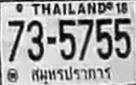3: (26, 19, 43, 60)
5: (95, 18, 112, 59), (58, 19, 75, 59), (114, 17, 130, 58)
7: (7, 19, 24, 61), (77, 18, 93, 60)
SPK: (29, 65, 112, 83)
